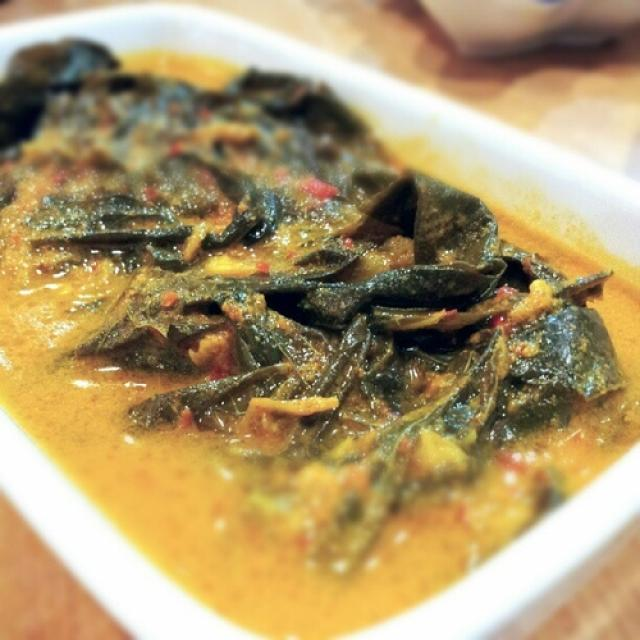熟制海鲜: (8, 10, 620, 584)
